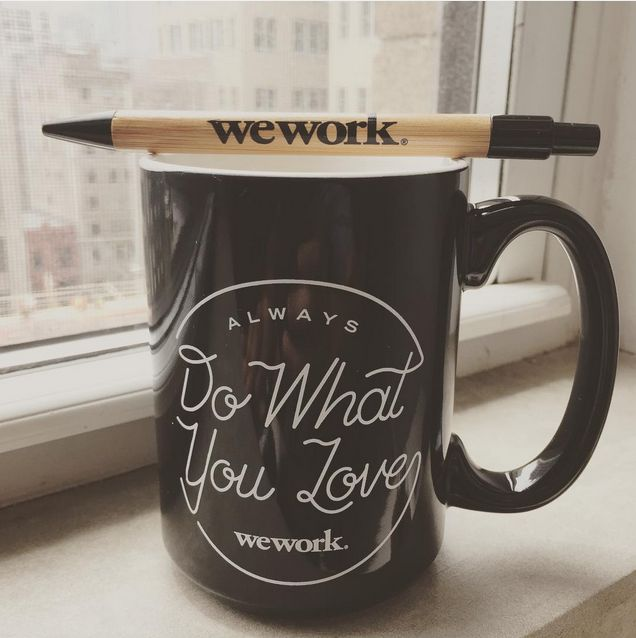wework: (232, 525, 344, 556)
